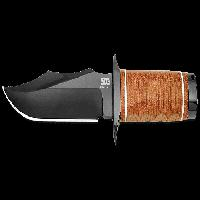knife: (2, 53, 200, 145)
